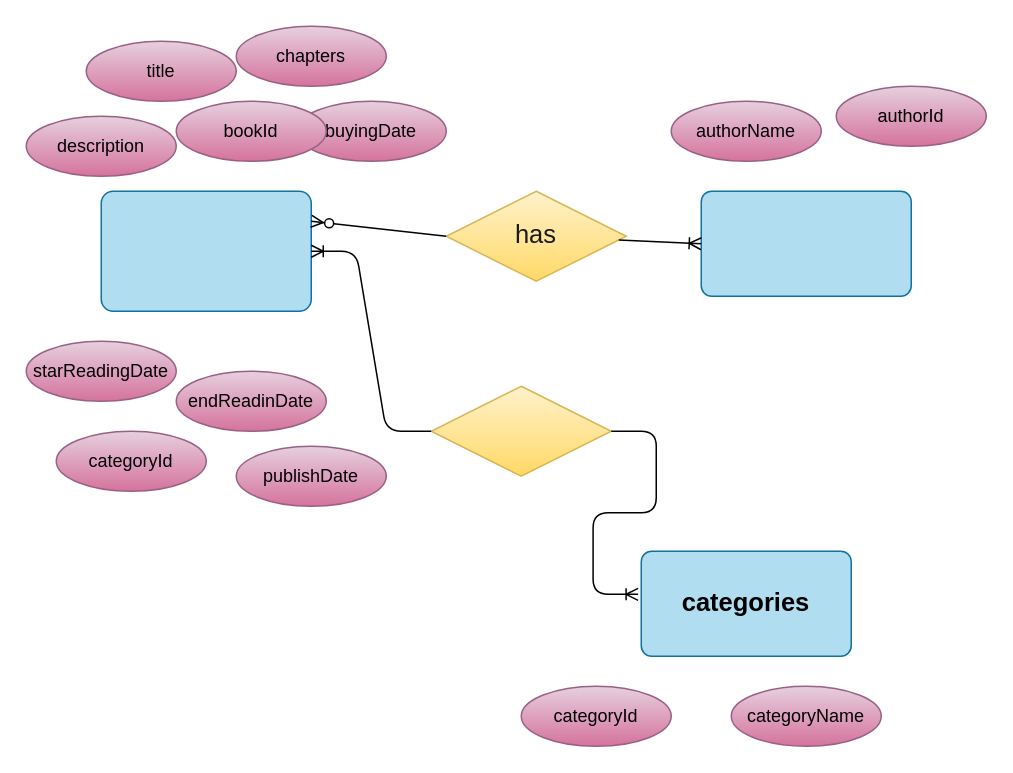
This 1013x773 diagram has some shape labels left out. Here are the shapes that lost their labels. From the top down, the box of each, then its label:
(100, 190, 311, 311): books
(700, 190, 911, 296): authors
(430, 385, 611, 476): belongs
